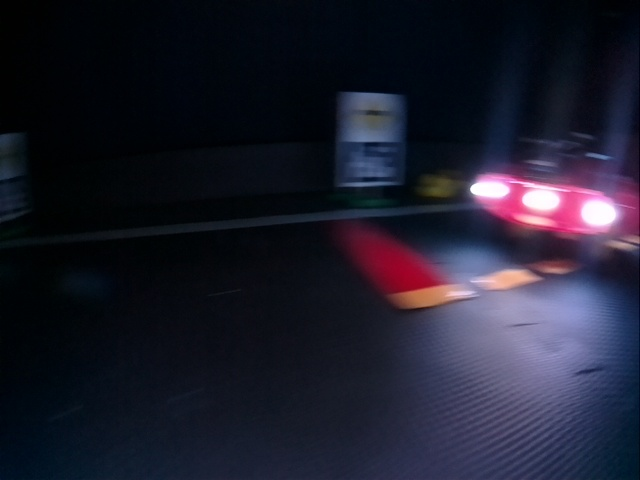Duckie: (417, 169, 460, 198)
Duckiebot: (469, 135, 635, 249)
Intersection sign: (347, 92, 400, 139)
QR code: (342, 141, 401, 184)
